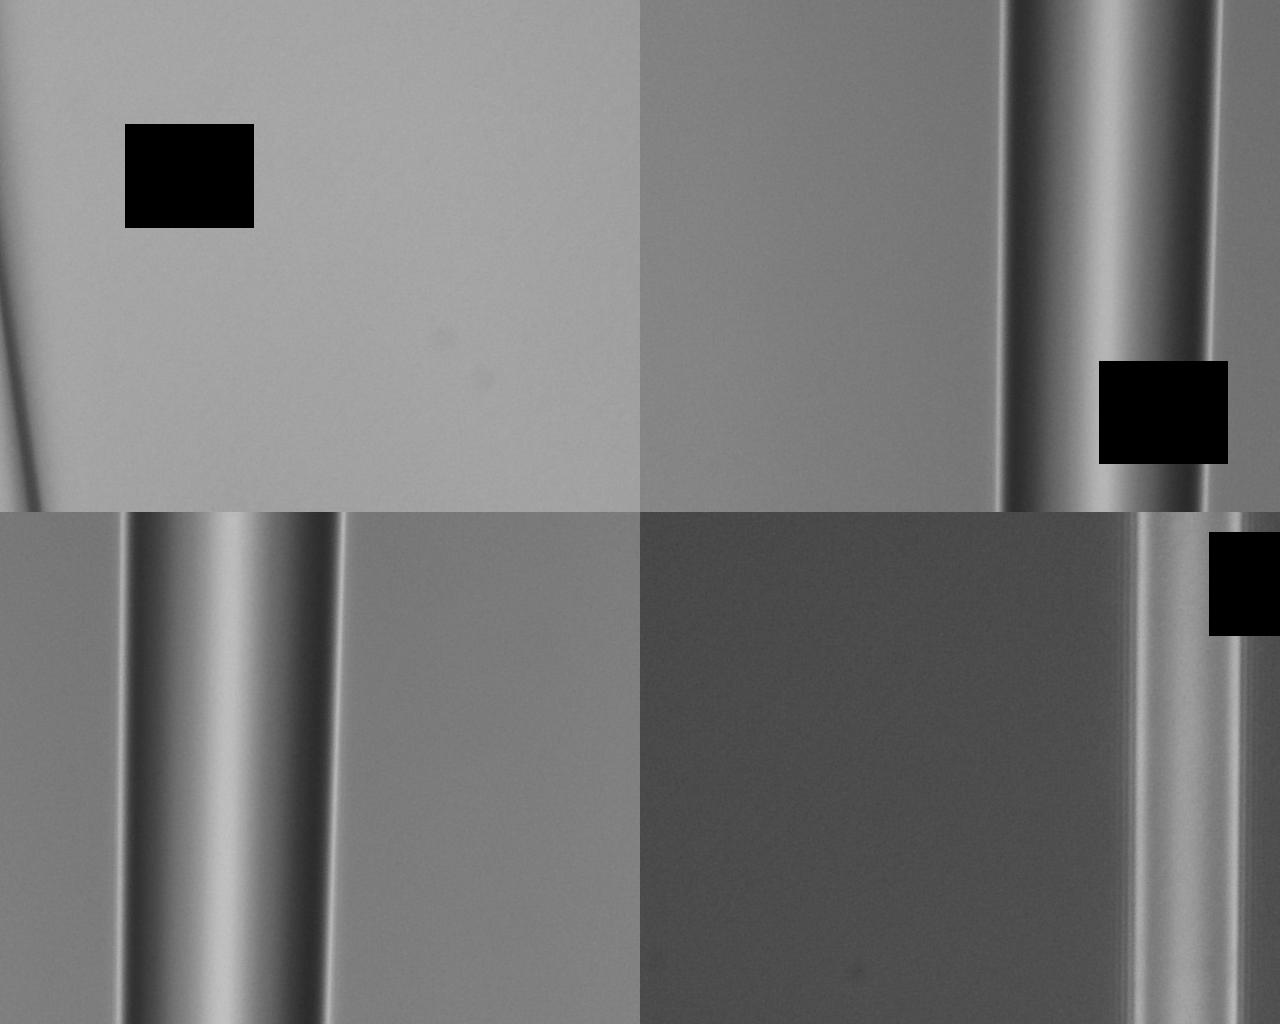fiber: (656, 460, 1181, 1024), (148, 460, 640, 731), (777, 0, 994, 460), (472, 0, 582, 460)
